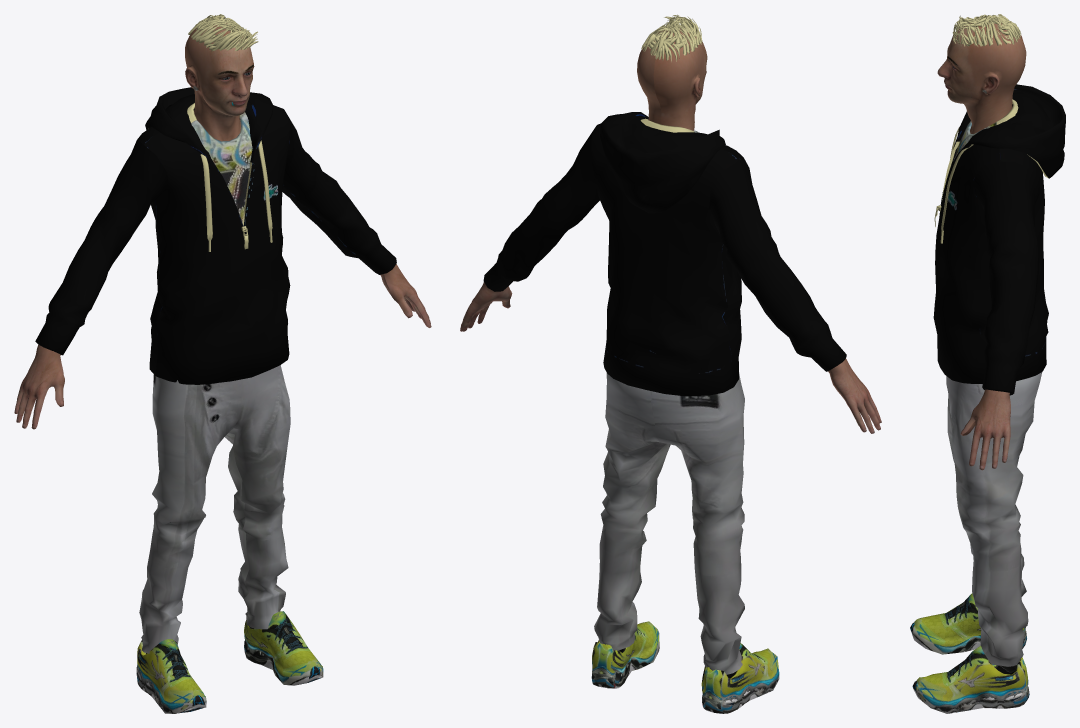
Rendered from skin-4-141.glb.
3 renders of one model, left to right at view 1: azimuth 30°, elevation 25°; view 2: azimuth 150°, elevation 25°; view 3: azimuth 270°, elevation 25°, orthographic.
Parts seen in each view (by area): view 1: skin-4-141; view 2: skin-4-141; view 3: skin-4-141.
Boxes of the visible parts, left/top/right/bottom form: skin-4-141: left=14, top=14, right=431, bottom=713; skin-4-141: left=460, top=14, right=881, bottom=713; skin-4-141: left=910, top=14, right=1065, bottom=713.
Bounding box in the file's own units: 1.19 × 1.84 × 0.3932.
7 materials, 7 textured.
